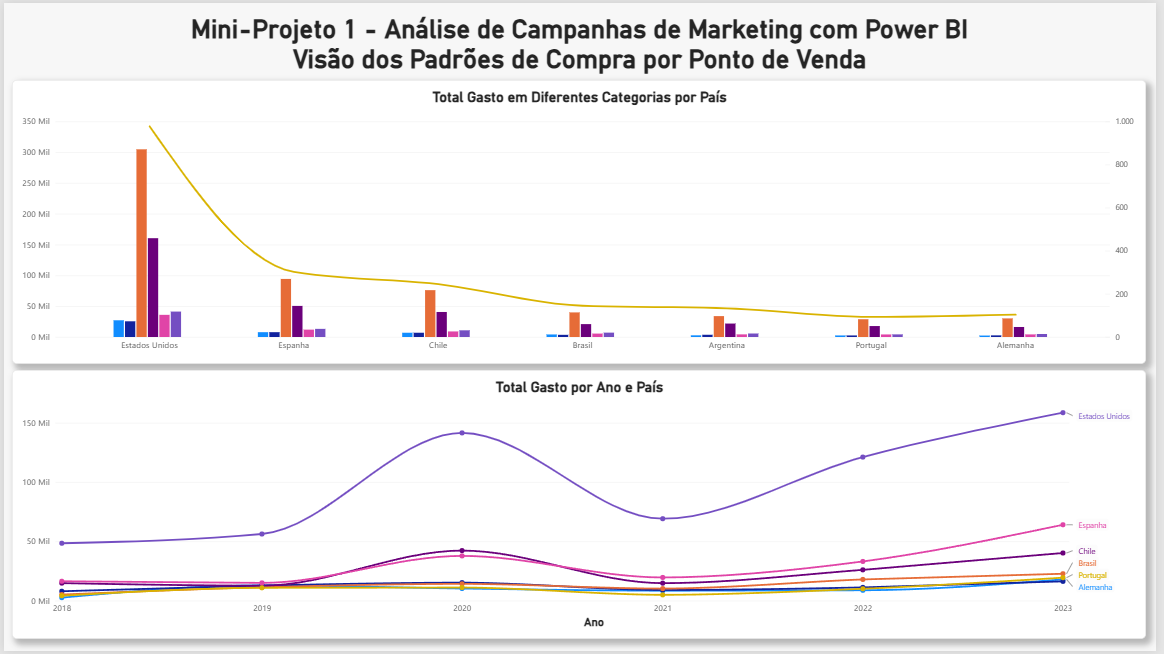

What the dashboard file says about the page in this screenshot:
{"tool":"powerbi","page":{"name":"Visão Pontos de Venda","canvas":[1920,1080],"ordinal":3},"visuals":[{"type":"textbox","box":[276.7,0,1365,128.3],"z":0},{"type":"lineClusteredColumnComboChart","title":"Total Gasto em Diferentes Categorias por País","fields":{"Category":["dados_marketing.Pais"],"Y":["Sum(dados_marketing.Gasto com Alimentos)","Sum(dados_marketing.Gasto com Brinquedos)","Sum(dados_marketing.Gasto com Eletronicos)","Sum(dados_marketing.Gasto com Moveis)","Sum(dados_marketing.Gasto com Utilidades)","Sum(dados_marketing.Gasto com Vestuario)"],"Y2":["CountNonNull(dados_marketing.ID)"]},"box":[13.3,128.3,1890,473.3],"z":1},{"type":"lineChart","title":"Total Gasto por Ano e País","fields":{"Category":["dados_marketing.Data Cadastro.Variation.Hierarquia de datas.Ano"],"Series":["dados_marketing.Pais"],"Y":["dados_marketing.Total_Gasto"]},"box":[13.3,611.7,1890,448.3],"z":2}]}

Visuals, with their boxes in screenshot pixels (x1, y1, x2, y2), scaled from the page's 1920x1080 canvas onto the 1164x654 screenshot:
textbox: <bbox>168, 0, 995, 78</bbox>
"Total Gasto em Diferentes Categorias por País" lineClusteredColumnComboChart: <bbox>8, 78, 1154, 364</bbox>
"Total Gasto por Ano e País" lineChart: <bbox>8, 370, 1154, 642</bbox>
